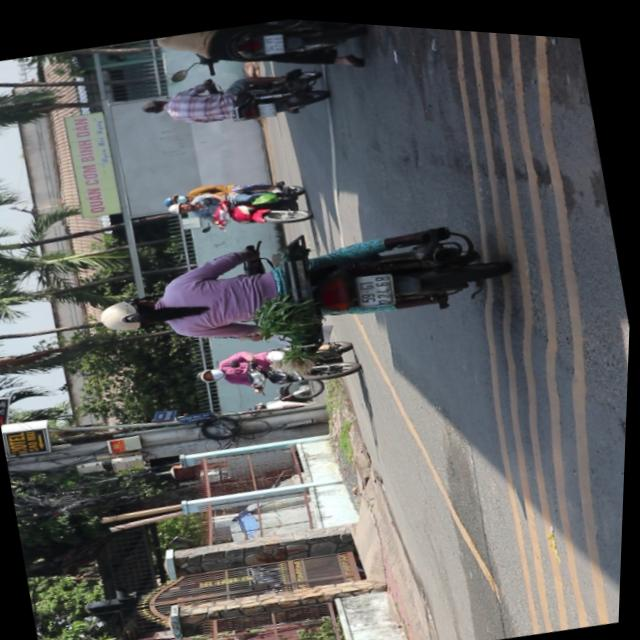helmet: (95, 291, 165, 339)
licenseplate: (82, 181, 510, 386), (126, 7, 366, 103)
nohelmet: (354, 265, 398, 306), (258, 29, 283, 53)
